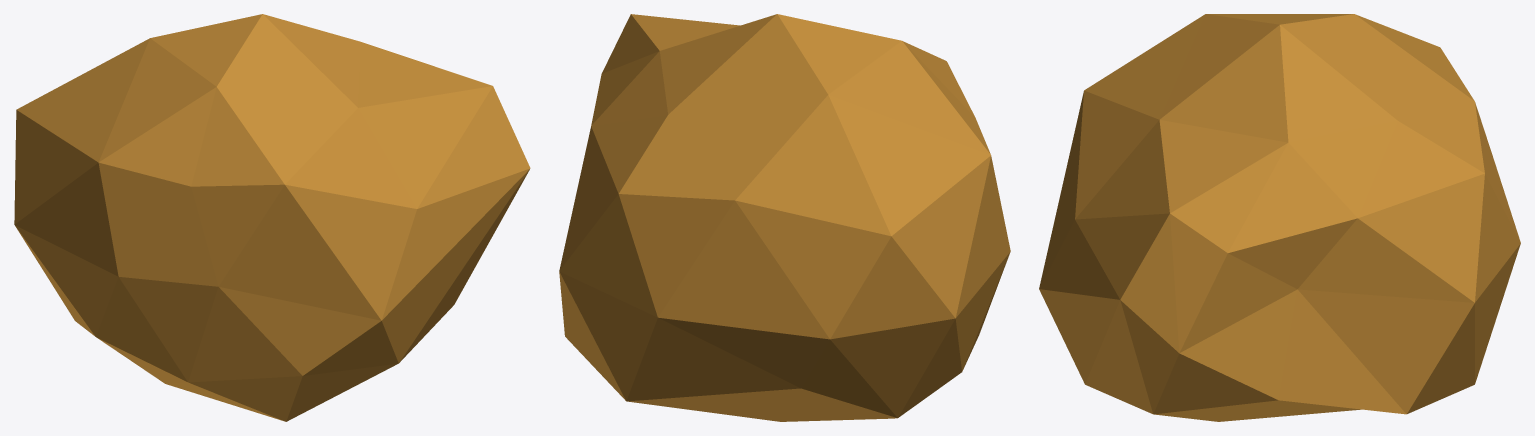
The model's file is SM_KIRINTI.fbx.
The picture shows the model from 3 angles, left to right: view 1: azimuth 30°, elevation 25°; view 2: azimuth 150°, elevation 25°; view 3: azimuth 270°, elevation 25°; orthographic projection. The views are drawn at different scales.
Visible parts, largest first — view 1: Icosphere; view 2: Icosphere; view 3: Icosphere.
Boxes of the visible parts, x1,y1,x2,y2 form: Icosphere: (14,14,530,421); Icosphere: (559,14,1010,421); Icosphere: (1039,14,1520,421).
Size of the model in its own units: 58.28 by 49.48 by 53.47.
